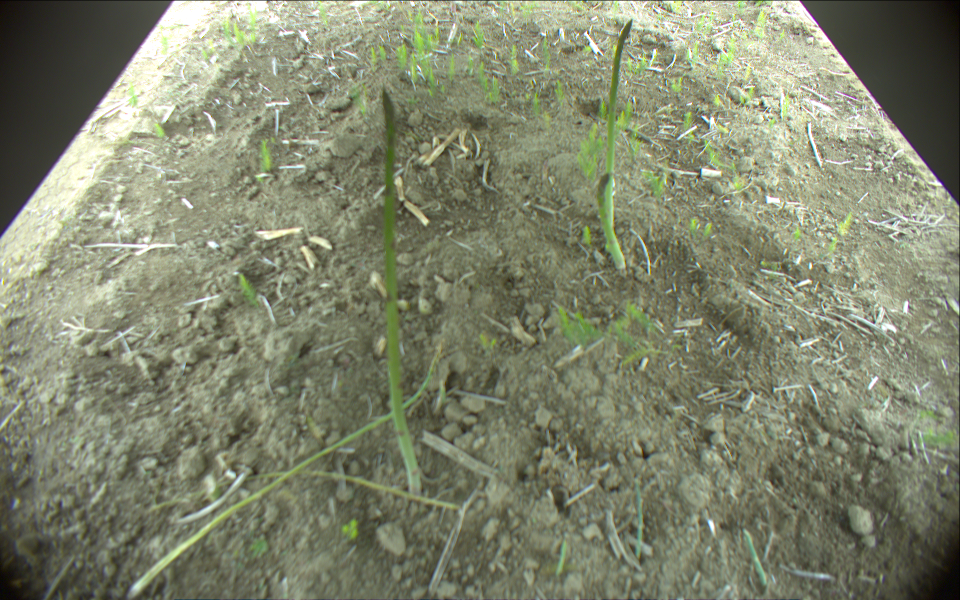aspa: (125, 342, 441, 600), (381, 84, 423, 497), (144, 467, 464, 519), (604, 19, 633, 253), (594, 170, 628, 268)
